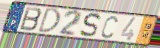2: (58, 10, 83, 38)
4: (119, 16, 137, 42)
B: (18, 6, 44, 32)
C: (100, 15, 119, 39)
D: (36, 7, 61, 34)
S: (79, 12, 102, 39)
